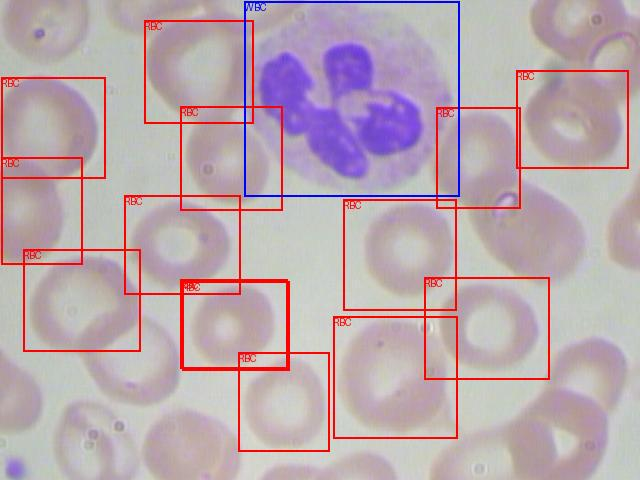RBC: (333, 316, 457, 438), (424, 277, 549, 379), (343, 199, 456, 310), (23, 249, 140, 351), (124, 195, 240, 294), (144, 20, 253, 123), (516, 70, 628, 168), (180, 106, 282, 210), (1, 77, 105, 178), (182, 281, 289, 370), (180, 279, 287, 368), (238, 352, 329, 451), (1, 157, 82, 264), (436, 107, 520, 208)
WBC: (244, 1, 459, 196)
